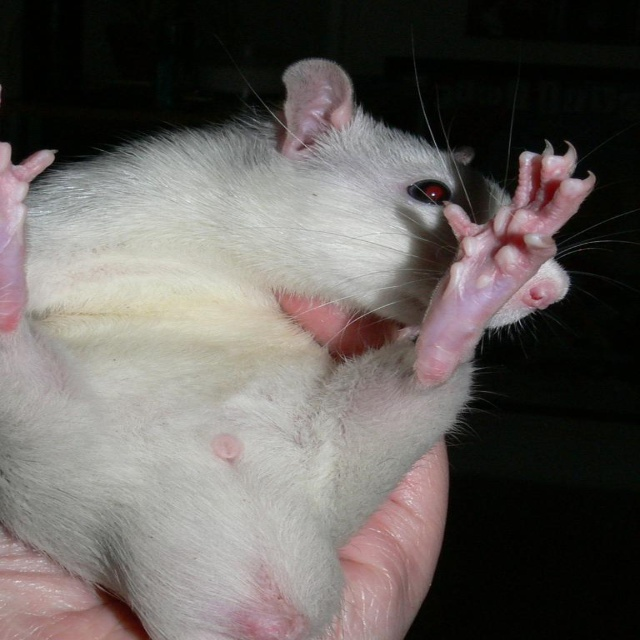Mouse: (0, 43, 639, 640)
